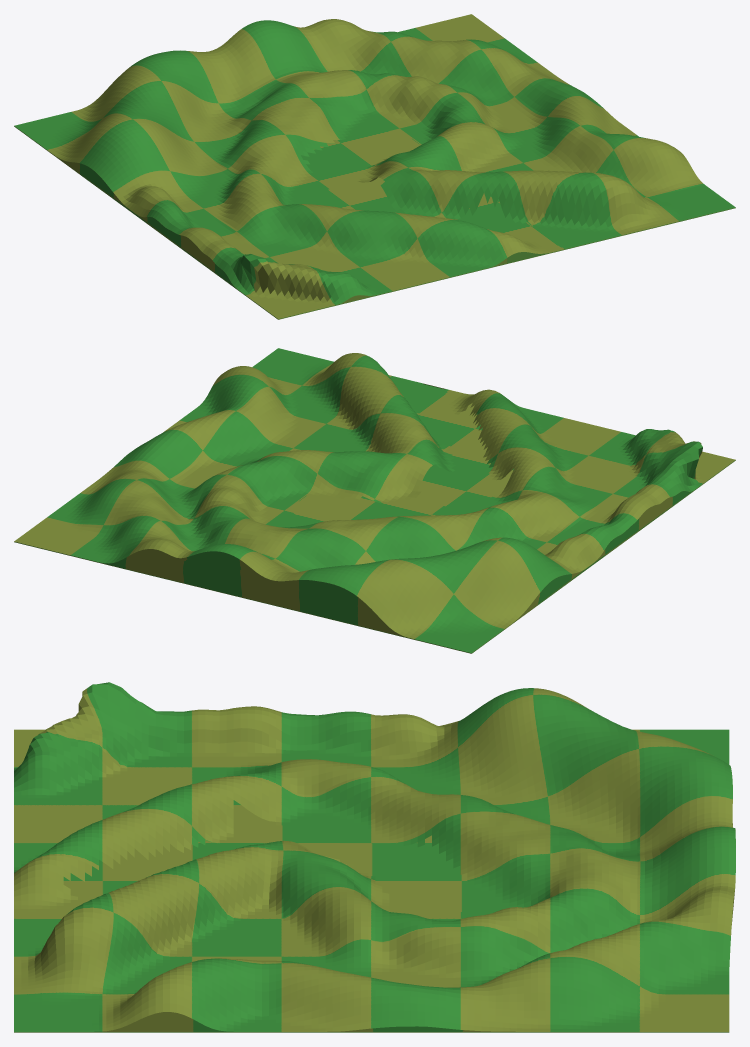
The model's file is Tereferains.glb.
3 views of the same model, one above another, from view 1: azimuth 30°, elevation 25°; view 2: azimuth 150°, elevation 25°; view 3: azimuth 270°, elevation 25° (orthographic). The views are drawn at different scales.
Parts seen in each view (by area): view 1: Plat.030; view 2: Plat.030; view 3: Plat.030.
Boxes of the visible parts, x1=… form: Plat.030: x1=14, y1=14, x2=735, y2=319; Plat.030: x1=14, y1=348, x2=735, y2=653; Plat.030: x1=14, y1=682, x2=735, y2=1032.
Bounding box in the file's own units: 719 × 73.33 × 723.
Materials: 1 (1 with a texture image).
